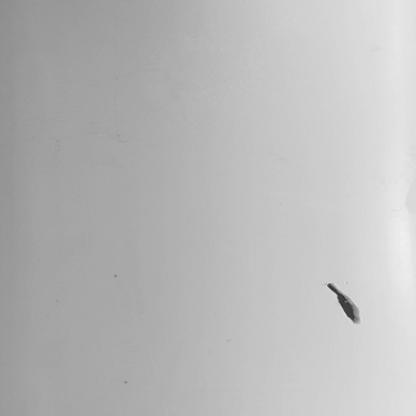kongdong: (327, 284, 364, 327)
